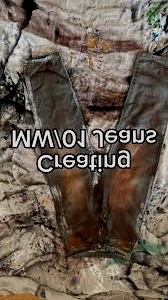earth: (60, 173, 91, 231), (110, 170, 132, 235)
